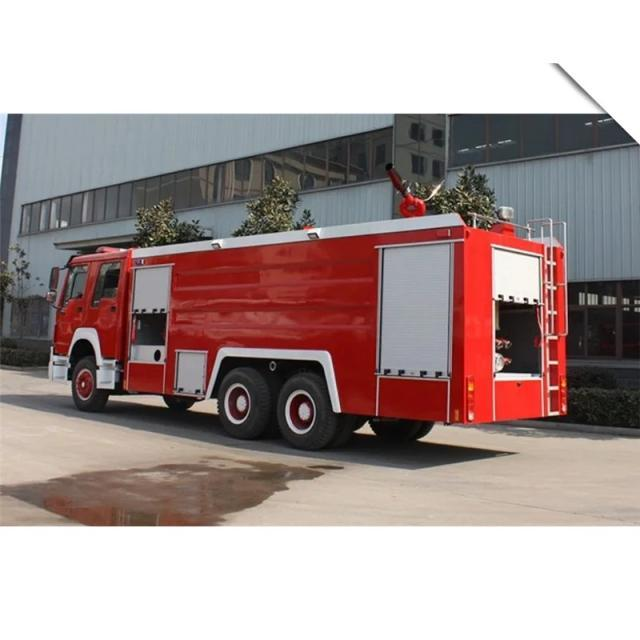Fire-engine: (45, 163, 569, 451)
